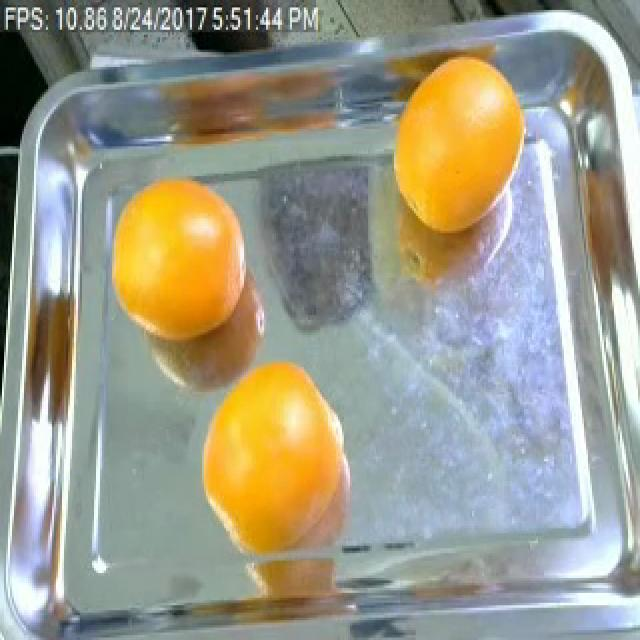Fruit: (188, 342, 362, 558), (368, 42, 542, 253), (96, 158, 266, 364)
